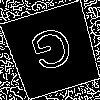G: (27, 25, 79, 81)
